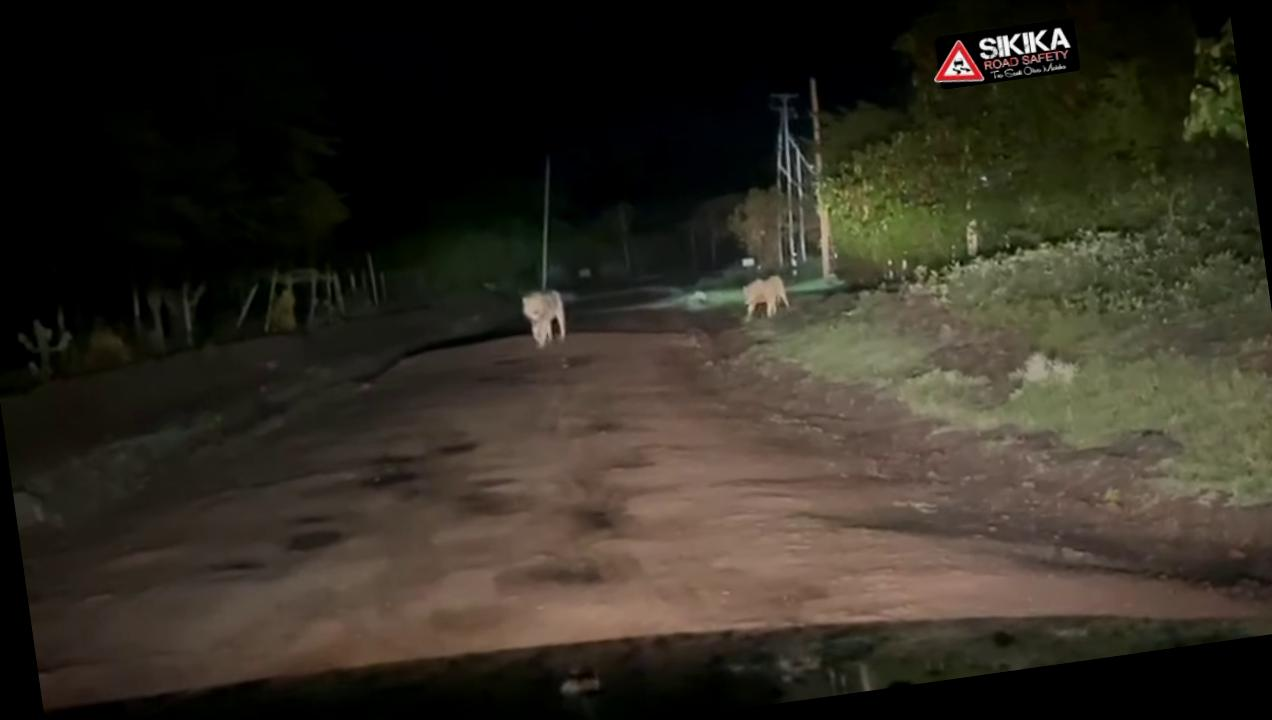lions: (465, 224, 858, 393)
